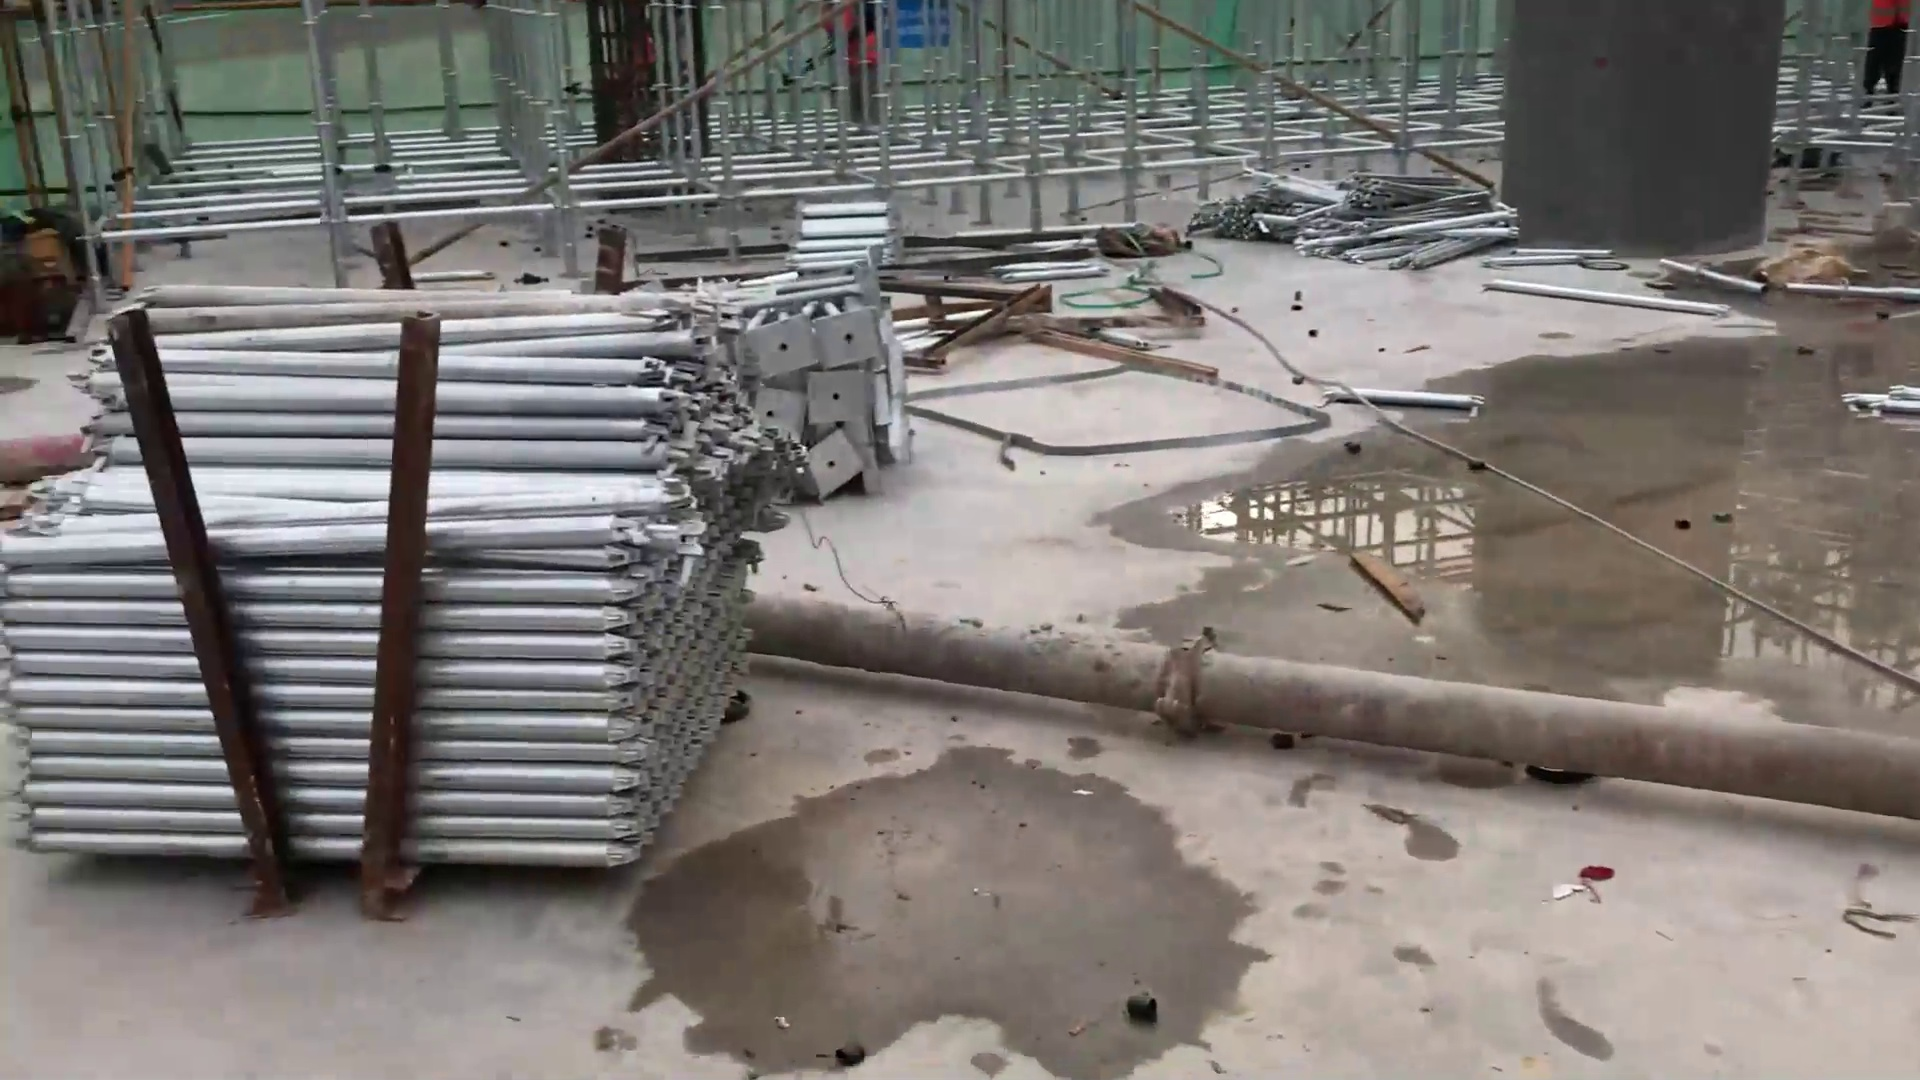scaffold: (1, 291, 729, 891)
